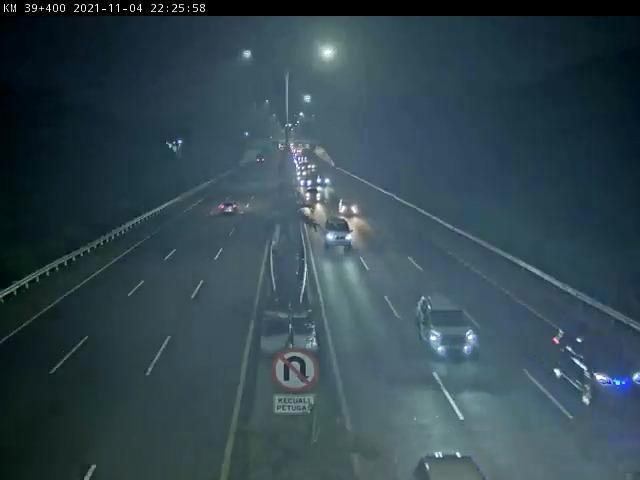car: (549, 313, 640, 427), (407, 295, 489, 368), (325, 218, 353, 250), (339, 200, 359, 216), (221, 202, 241, 217), (306, 190, 322, 205), (318, 175, 333, 188), (302, 179, 313, 188), (298, 172, 308, 178), (300, 164, 307, 170), (310, 164, 317, 170)
